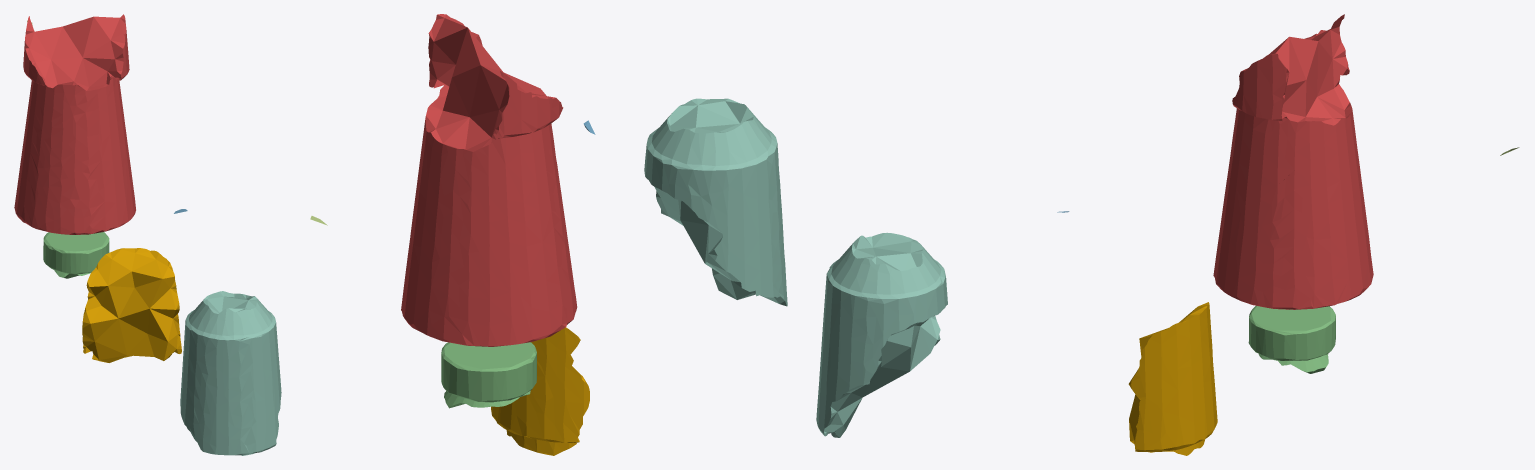
The model's file is mode_6_6pcs_transformed.glb.
3 views of the same model, side by side, from view 1: azimuth 30°, elevation 25°; view 2: azimuth 150°, elevation 25°; view 3: azimuth 270°, elevation 25° (orthographic). The views are drawn at different scales.
Parts seen in each view (by area): view 1: piece_1.obj, piece_3.obj, piece_0.obj, piece_2.obj; view 2: piece_1.obj, piece_3.obj, piece_0.obj, piece_2.obj; view 3: piece_1.obj, piece_3.obj, piece_0.obj, piece_2.obj.
Boxes of the visible parts, x1,y1,x2,y2 form: piece_1.obj: (14,14,135,234); piece_3.obj: (180,291,281,455); piece_0.obj: (82,248,181,362); piece_2.obj: (43,232,109,278); piece_1.obj: (401,14,577,346); piece_3.obj: (644,98,787,306); piece_0.obj: (491,327,589,455); piece_2.obj: (441,342,536,408); piece_1.obj: (1213,14,1373,309); piece_3.obj: (816,232,947,437); piece_0.obj: (1128,302,1217,455); piece_2.obj: (1248,305,1335,373).
Size of the model in its own units: 0.3678 by 1.05 by 1.62.
